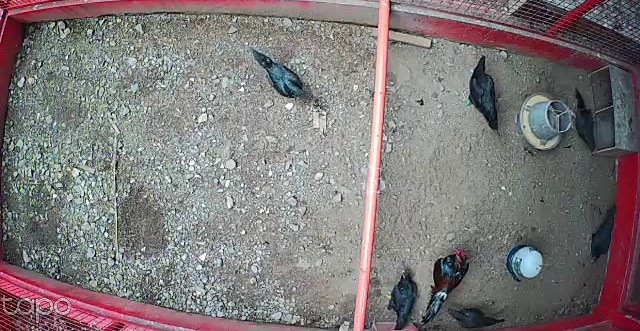Chicken: (460, 49, 503, 132), (249, 46, 310, 101), (381, 267, 420, 331), (563, 87, 600, 154), (585, 204, 619, 264), (444, 305, 506, 330)
Drinker: (507, 243, 544, 281)
Feeder: (517, 90, 572, 155)
Rooster: (419, 247, 472, 329)
